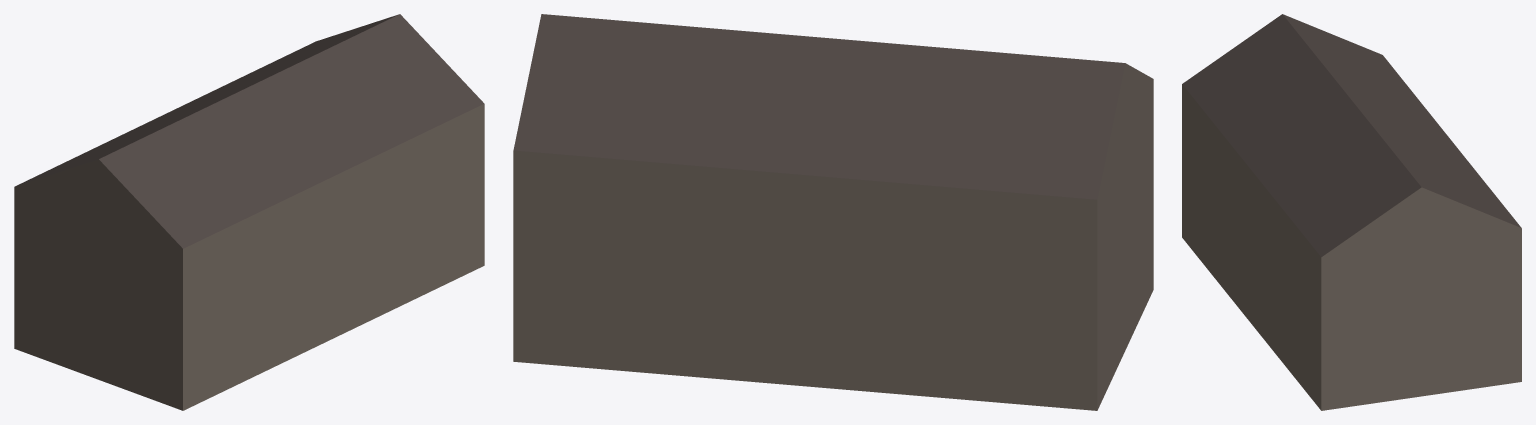
3 renders of one model, left to right at view 1: azimuth 30°, elevation 25°; view 2: azimuth 150°, elevation 25°; view 3: azimuth 270°, elevation 25°, orthographic. The views are drawn at different scales.
Visible parts, largest first — view 1: HP-w1200835410; view 2: HP-w1200835410; view 3: HP-w1200835410.
Part boxes in pixels (x1,y1,x2,y2): HP-w1200835410: (14, 14, 484, 410); HP-w1200835410: (513, 14, 1153, 410); HP-w1200835410: (1182, 14, 1521, 410).
Bounding box in the file's own units: 25.43 × 12.25 × 18.04.
